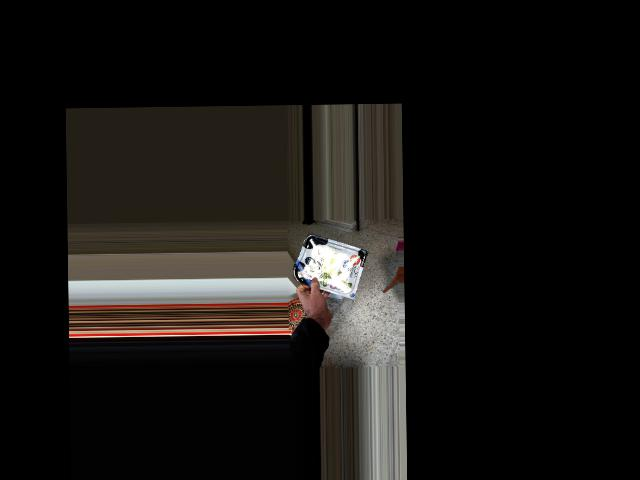cheese: (296, 240, 359, 287)
